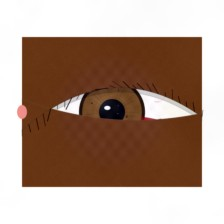hemorrhage_spot: (81, 87, 182, 168)
